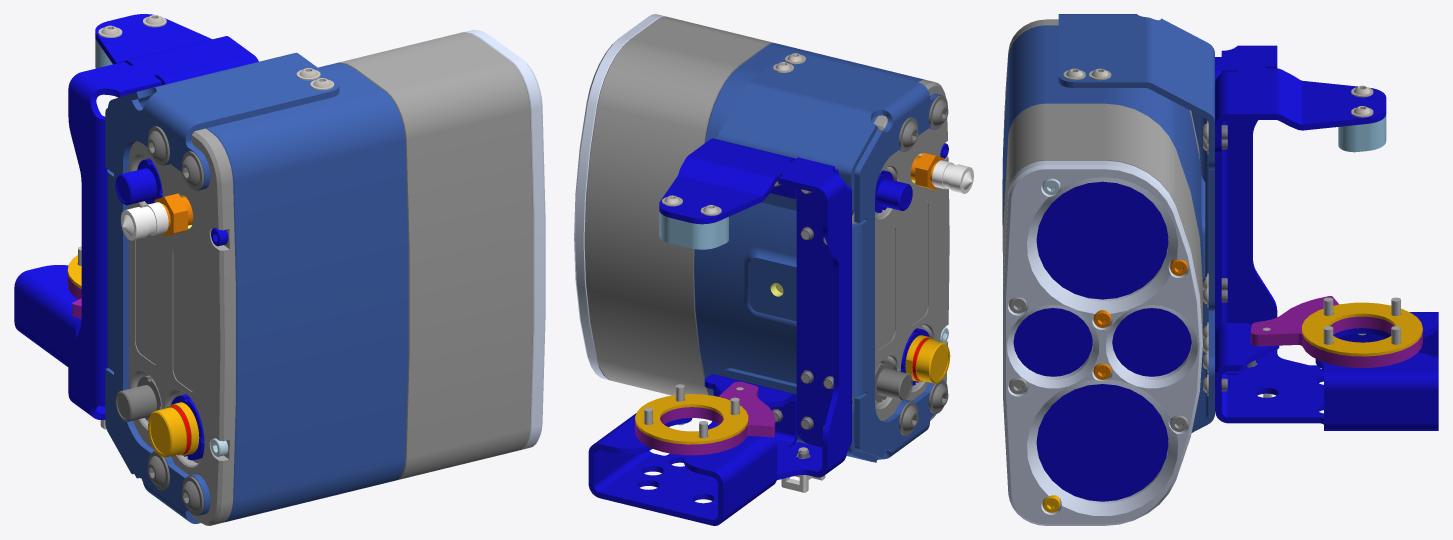
File: neck_pitch_link_2.obj
3 renders of one model, left to right at view 1: azimuth 30°, elevation 25°; view 2: azimuth 150°, elevation 25°; view 3: azimuth 270°, elevation 25°, orthographic. The views are drawn at different scales.
Visible parts, largest first — view 1: mesh813, mesh322, mesh3, mesh812, mesh1059, mesh320, mesh1044, mesh1248, mesh1251, mesh1278, mesh335, mesh72 (+21 smaller); view 2: mesh329, mesh836, mesh331, mesh3, mesh1309, mesh1050, mesh1059, mesh1319, mesh1044, mesh1248, mesh1278, mesh335 (+40 smaller); view 3: mesh532, mesh1078, mesh667, mesh1247, mesh1044, mesh1319, mesh491, mesh231, mesh331, mesh533, mesh535, mesh1050 (+36 smaller).
Boxes of the visible parts, x1,y1,x2,y2 form: mesh813: (234,140,407,500); mesh322: (406,110,532,458); mesh3: (129,135,220,523); mesh812: (214,91,405,182); mesh1059: (105,101,204,515); mesh320: (387,60,530,139); mesh1044: (156,54,339,123); mesh1248: (68,89,94,409); mesh1251: (94,115,107,406); mesh1278: (81,37,253,91); mesh335: (355,38,509,90); mesh72: (221,182,235,503); mesh329: (584,105,705,385); mesh836: (694,132,854,403); mesh331: (597,38,738,131); mesh3: (875,85,949,420); mesh1309: (796,188,833,447); mesh1050: (720,85,876,163); mesh1059: (859,95,942,457); mesh1319: (600,423,822,519); mesh1044: (750,53,918,111); mesh1248: (827,188,850,467); mesh1278: (689,139,835,186); mesh335: (631,19,765,64); mesh532: (1006,169,1199,524); mesh1078: (1036,181,1168,299); mesh667: (1036,384,1168,501); mesh1247: (1229,120,1277,324); mesh1044: (1058,15,1145,82); mesh1319: (1224,350,1323,418); mesh491: (1112,308,1191,376); mesh231: (1013,308,1092,376); mesh331: (1104,103,1175,204); mesh533: (1027,379,1177,515); mesh535: (1027,177,1177,313); mesh1050: (1152,18,1207,112).
Size of the model in its own units: 0.1309 by 0.1325 by 0.137.
